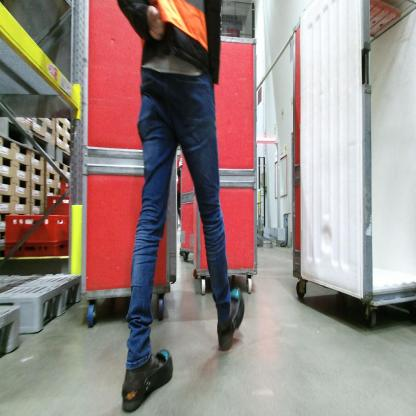pallet: (0, 261, 83, 337), (1, 209, 76, 248), (1, 236, 77, 270), (0, 116, 55, 160), (0, 305, 22, 359), (45, 195, 77, 217), (58, 176, 79, 198), (55, 146, 73, 171)
